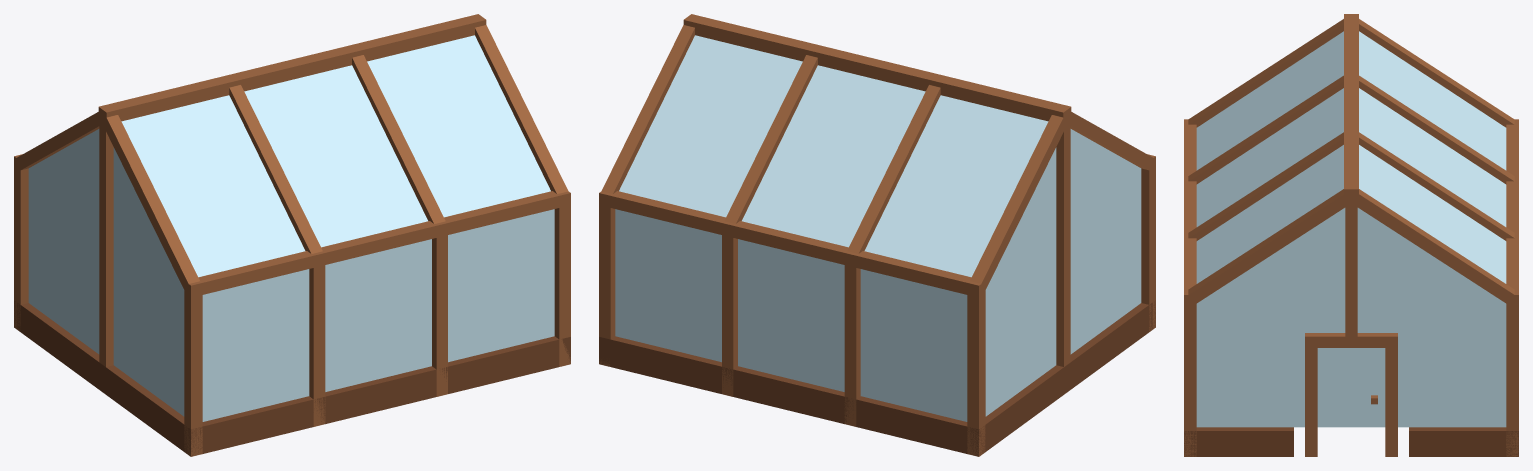
The model's file is greenhouse.glb.
3 views of the same model, side by side, from view 1: azimuth 30°, elevation 25°; view 2: azimuth 150°, elevation 25°; view 3: azimuth 270°, elevation 25° (orthographic). The views are drawn at different scales.
Visible parts, largest first — view 1: greenhouse; view 2: greenhouse; view 3: greenhouse.
Part boxes in pixels (<box>): greenhouse: <box>14,14,570,456</box>; greenhouse: <box>599,14,1155,456</box>; greenhouse: <box>1184,14,1518,456</box>.
Size of the model in its own units: 0.729 by 0.5132 by 0.582.
